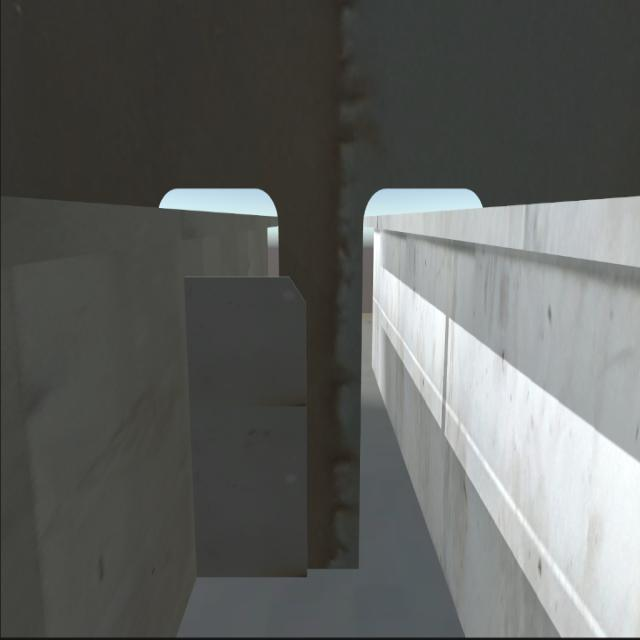fillet_yong_jeop_jang: (194, 558, 372, 584)
longi_yong_jeop_jang: (180, 270, 208, 577)
plate_CP03: (188, 275, 312, 577)
